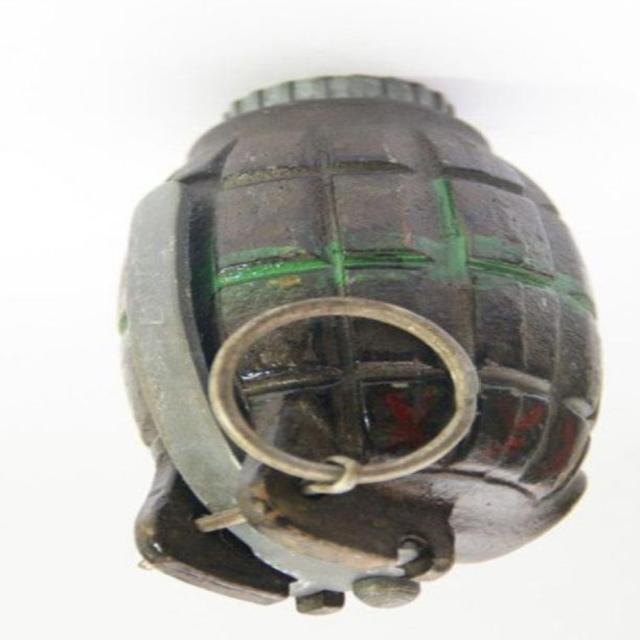grenade: (117, 77, 602, 618)
